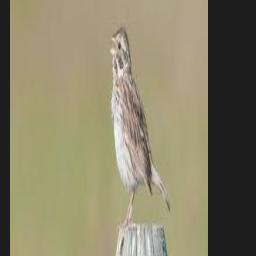Sparrow: (108, 25, 171, 226)
